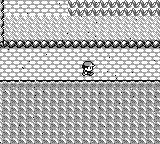captura: (68, 0, 159, 16)
main: (82, 61, 95, 76)
no-caminable: (1, 81, 160, 143)
